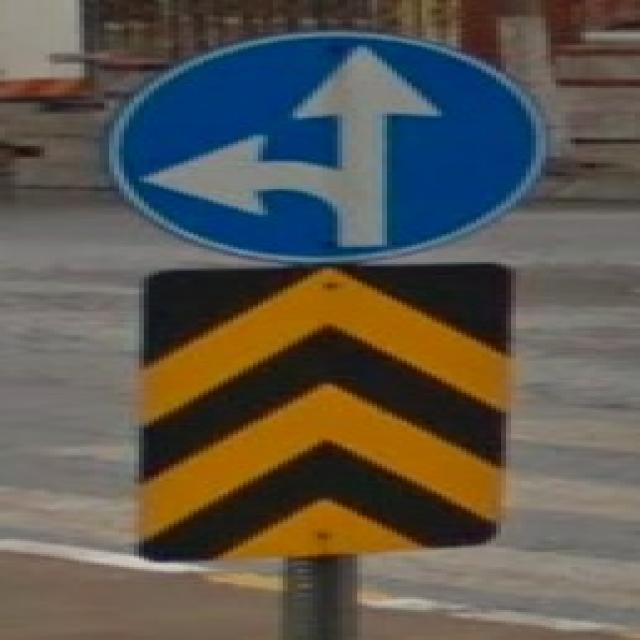Straight or Left: (110, 32, 552, 262)
